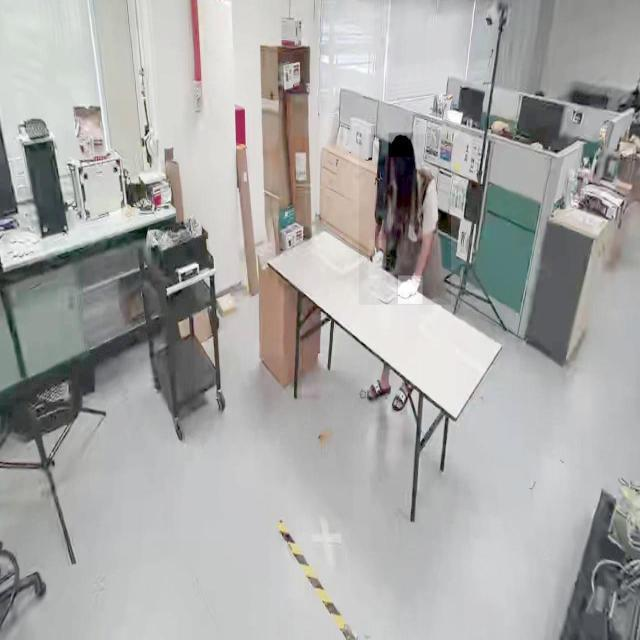hand_glove: (398, 275, 423, 305), (368, 240, 386, 279)
head_nohelmet: (388, 132, 414, 158)
person: (359, 134, 451, 306)
